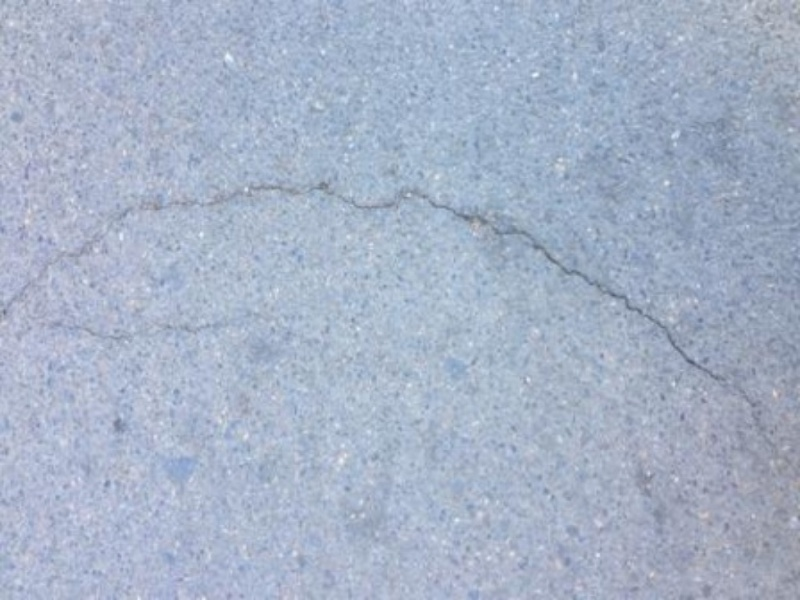crack: (1, 172, 786, 469)
